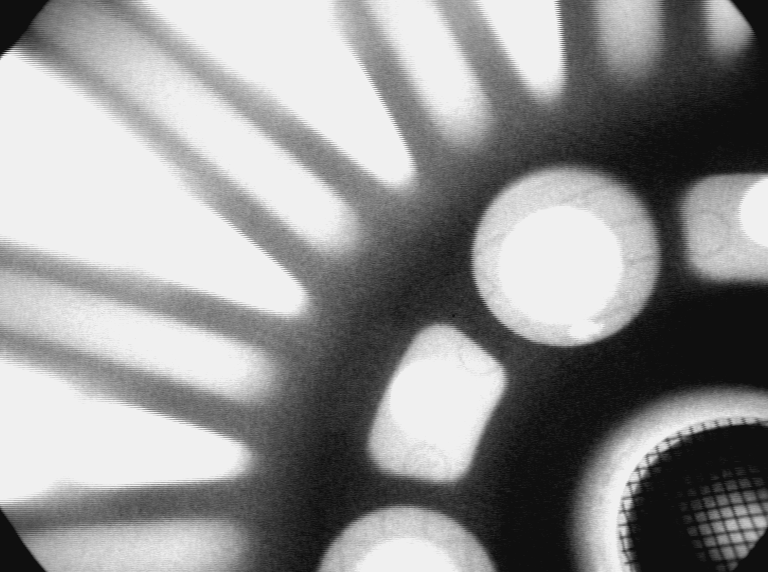defect: (566, 316, 607, 344)
